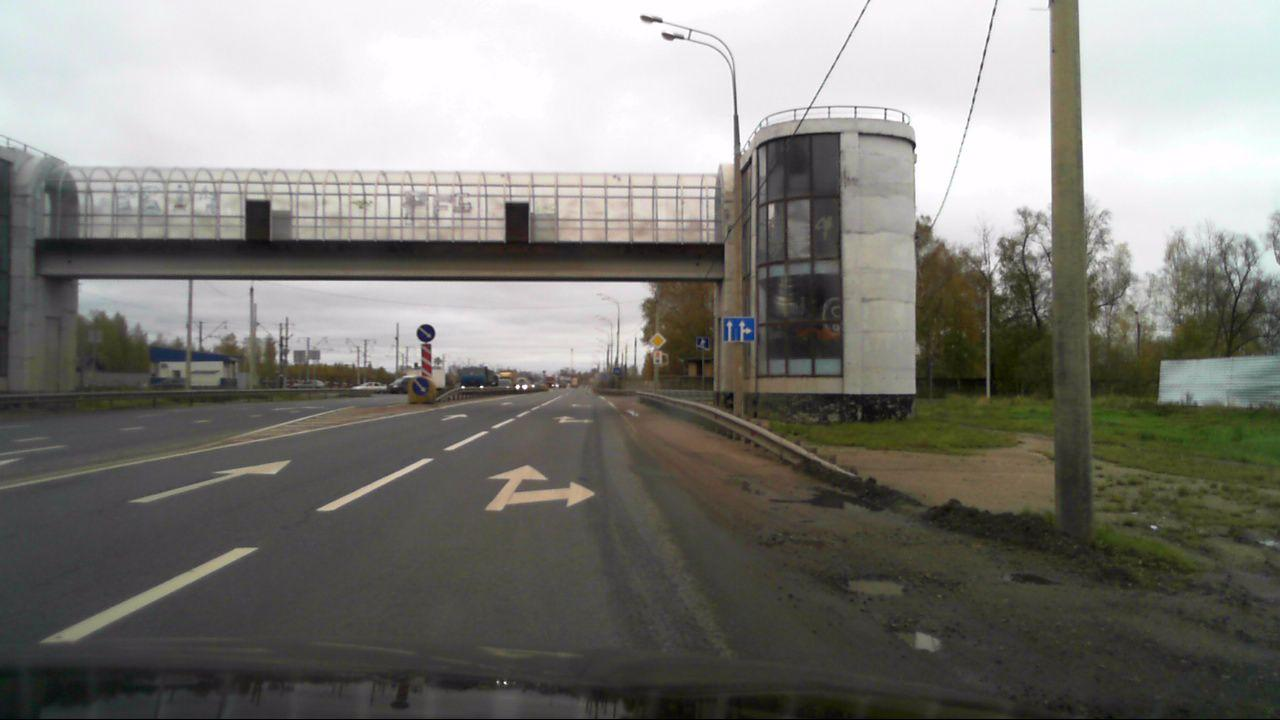2_1: (649, 332, 666, 349)
4_2_1: (416, 323, 436, 343), (411, 376, 431, 395)
4_8_1: (653, 350, 663, 364)
5_15_1: (721, 316, 756, 342)
6_7: (696, 336, 711, 352)
8_22_1: (421, 344, 432, 377)
